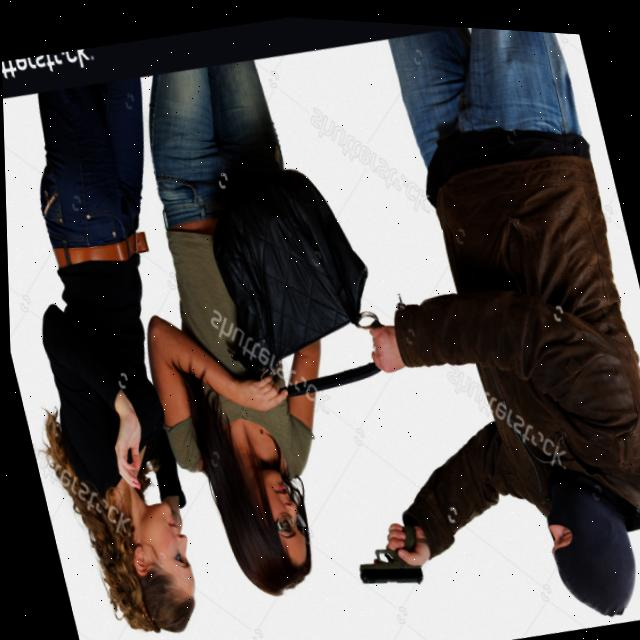pistol: (345, 514, 425, 594)
